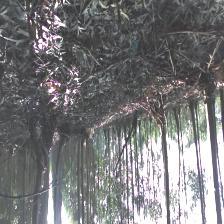trunk: (203, 90, 221, 211), (154, 119, 170, 218), (189, 103, 202, 194), (54, 142, 64, 215), (33, 160, 45, 220)
